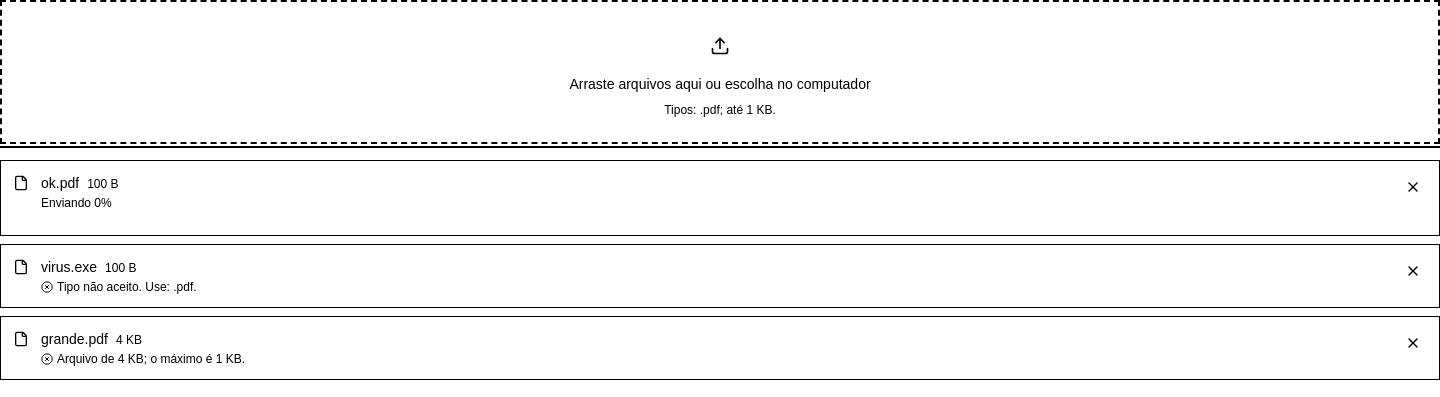
Test case: FileUpload: validação por arquivo › mostra a mensagem de cada arquivo recusado e não envia só esses
Earlier steps of the test are not shown.
Expected: the number of list items is 3, [0,160,1439,236]; [0,244,1439,308]; [0,316,1439,380]
Expected: the list item "virus.exe 100 B Tipo não aceito. Use: .pdf." is shown, [0,244,1439,308]
What coordinates should you click on to do the following:
click the button named "Remover virus.exe da lista"
I would click on:
 (1413, 271)
Its box is [1399,257,1427,285].
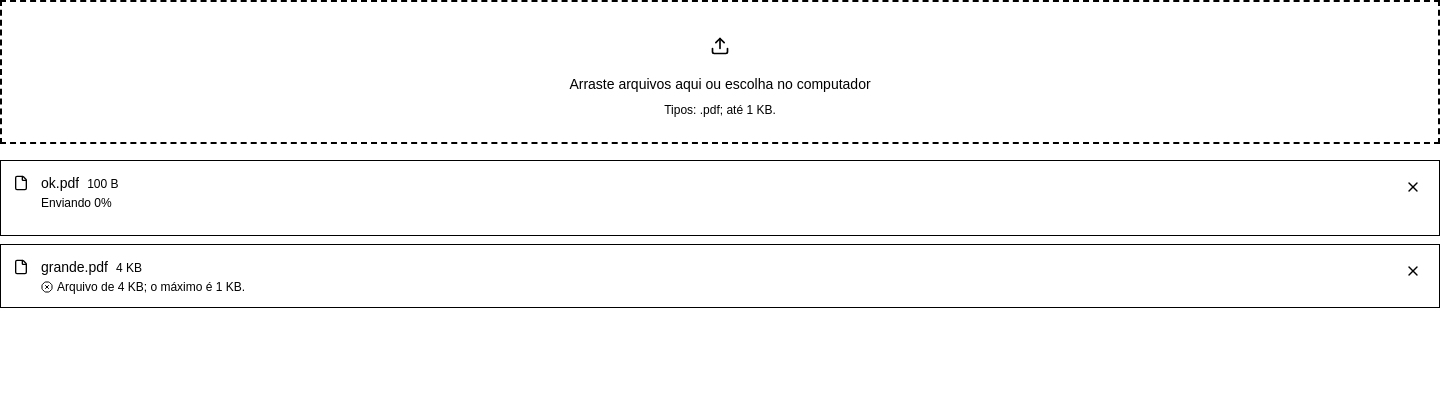
Now the number of list items is 2, box [0,160,1439,236]; [0,244,1439,308]
